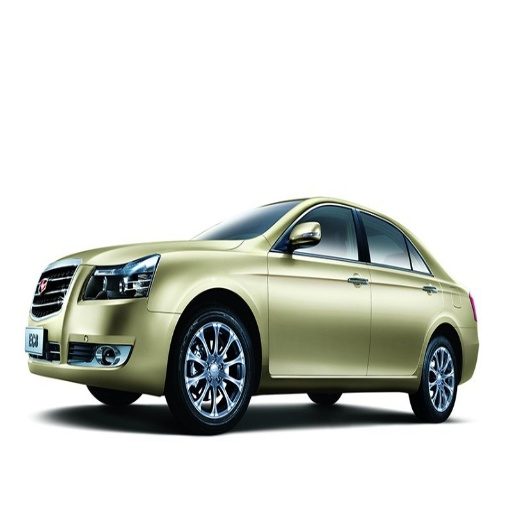front_bumper: (23, 265, 180, 391)
front_glass: (204, 202, 294, 239)
front_left_door: (267, 202, 371, 375)
